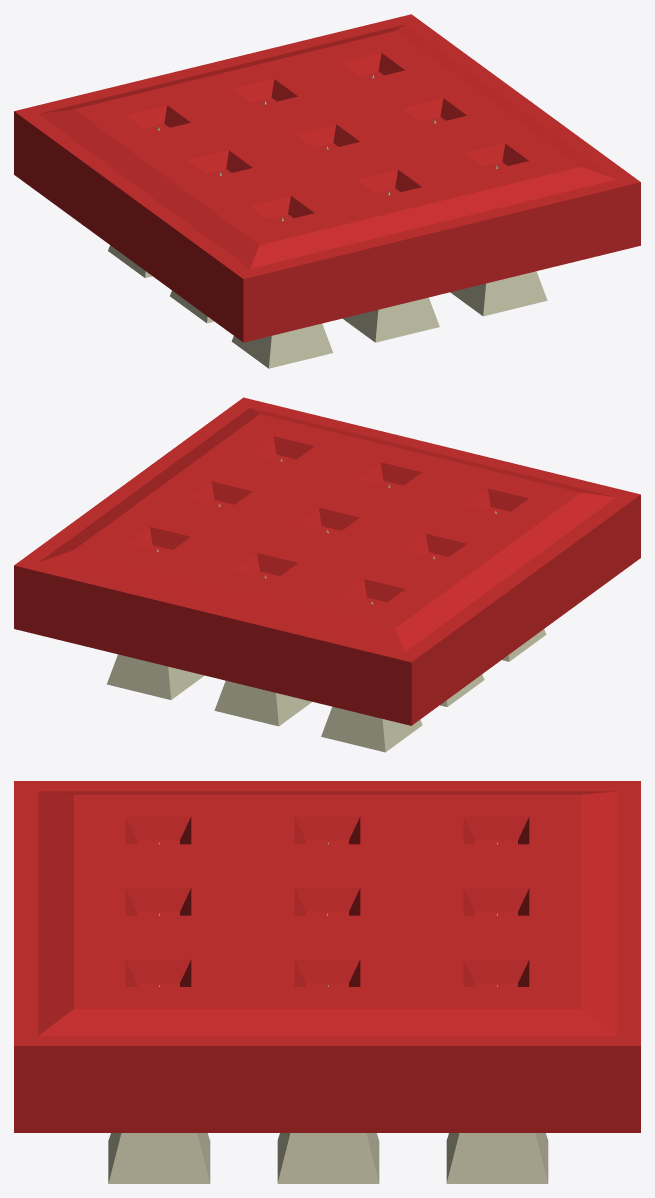
The model's file is Model_Horde_Trap.fbx.
3 views of the same model, one above another, from view 1: azimuth 30°, elevation 25°; view 2: azimuth 150°, elevation 25°; view 3: azimuth 270°, elevation 25° (orthographic). The views are drawn at different scales.
Parts seen in each view (by area): view 1: Model_Frost_Trap, Model_Frost_Trap1; view 2: Model_Frost_Trap, Model_Frost_Trap1; view 3: Model_Frost_Trap, Model_Frost_Trap1.
Part boxes in pixels (<box>): Model_Frost_Trap: <box>14,14,640,342</box>; Model_Frost_Trap1: <box>108,75,547,368</box>; Model_Frost_Trap: <box>14,397,640,725</box>; Model_Frost_Trap1: <box>106,458,546,752</box>; Model_Frost_Trap: <box>14,781,640,1132</box>; Model_Frost_Trap1: <box>108,842,548,1183</box>.
Bounding box in the file's own units: 200 × 66.41 × 200.
